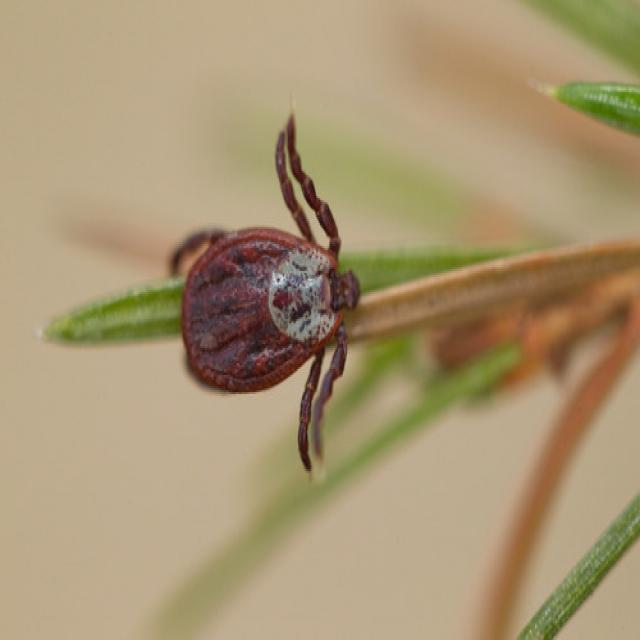Dermacentor Reticulatus-F: (169, 111, 362, 477)
